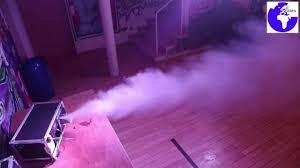smoke: (59, 2, 300, 126)
